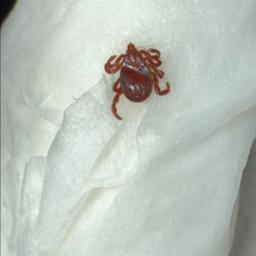Rhipicephalus sanguineus: (104, 43, 171, 120)
